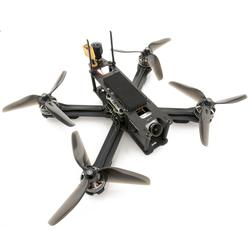drone: (2, 30, 250, 223)
